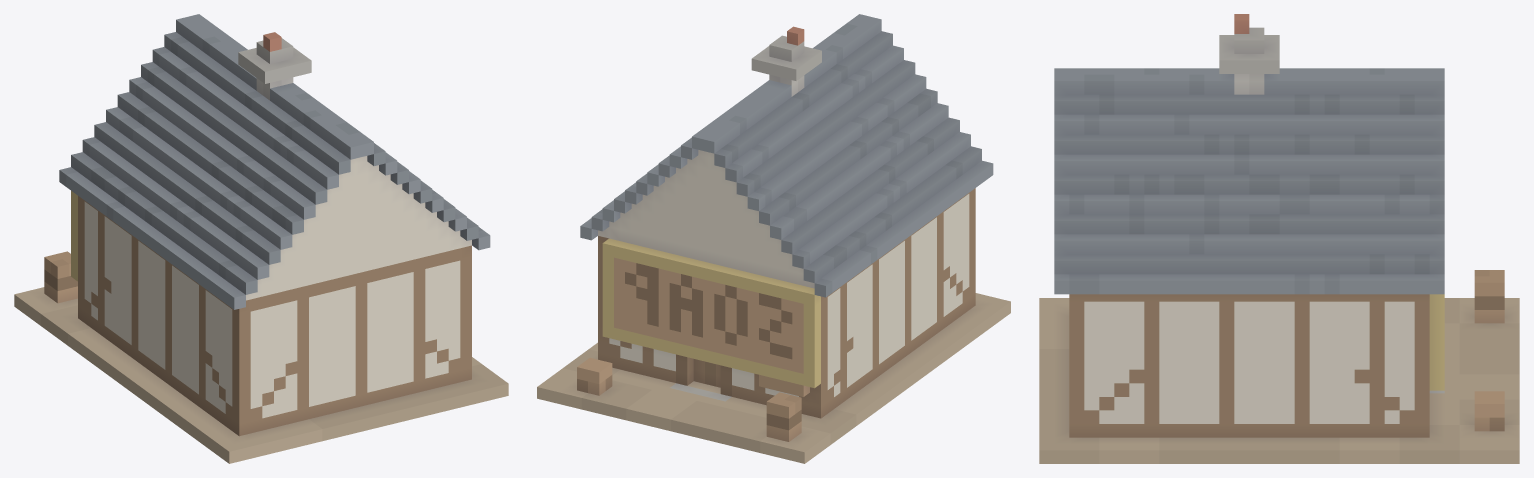
Rendered from soap_maker.glb.
The picture shows the model from 3 angles, left to right: view 1: azimuth 30°, elevation 25°; view 2: azimuth 150°, elevation 25°; view 3: azimuth 270°, elevation 25°; orthographic projection. The views are drawn at different scales.
Visible parts, largest first — view 1: soap_maker; view 2: soap_maker; view 3: soap_maker.
Part boxes in pixels (x1=…): soap_maker: x1=14, y1=14, x2=508, y2=463; soap_maker: x1=537, y1=14, x2=1010, y2=463; soap_maker: x1=1039, y1=14, x2=1519, y2=463.
Bounding box in the file's own units: 3 × 3.38 × 4.
